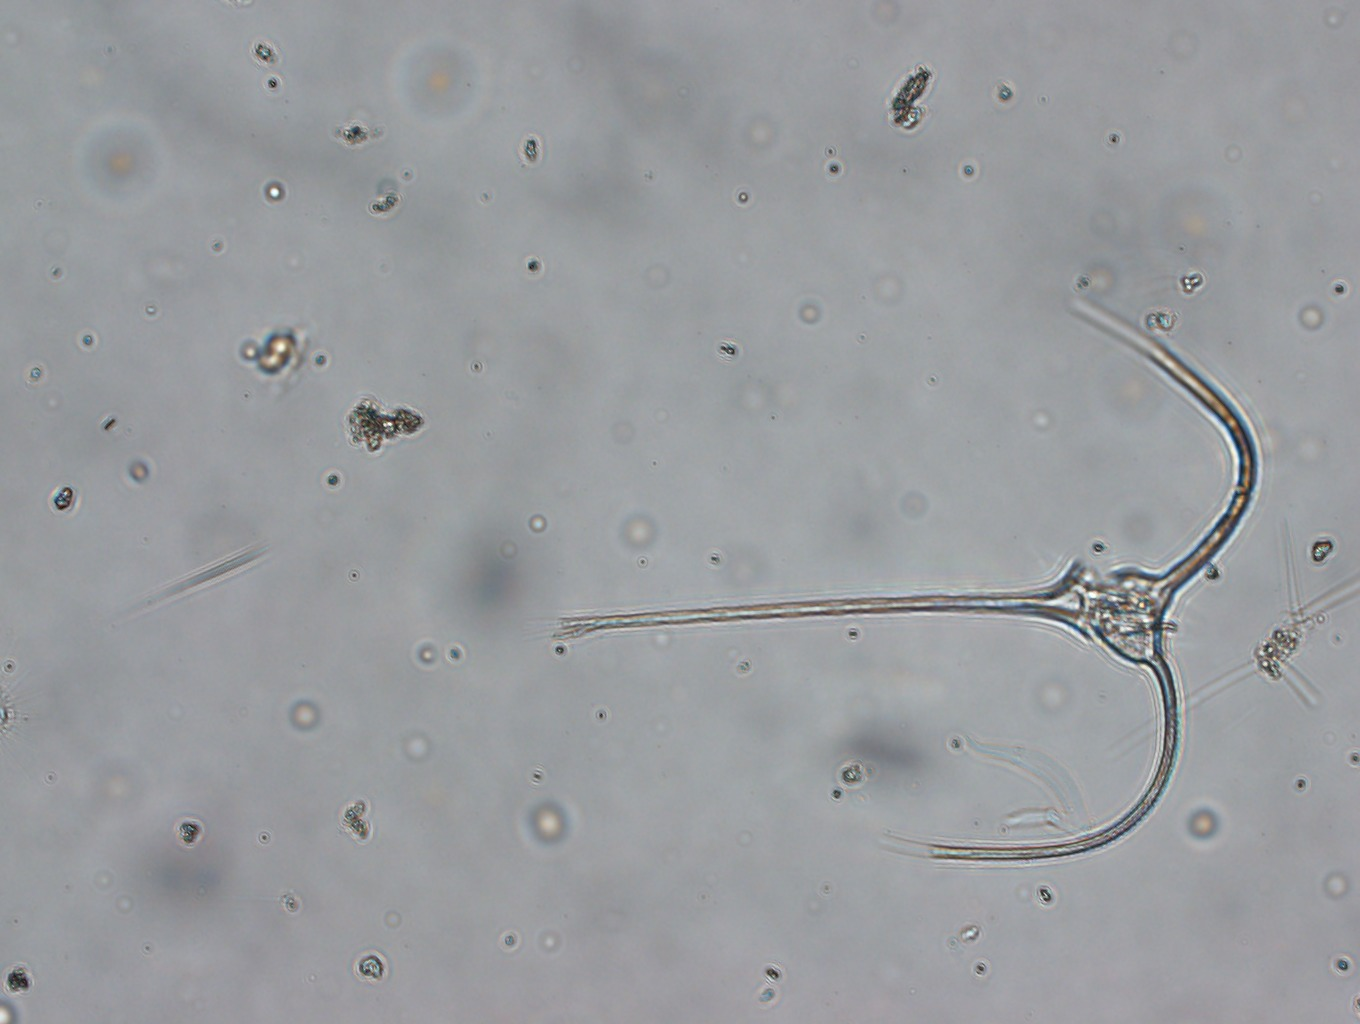ceratium trichoceros: (550, 300, 1273, 874)
